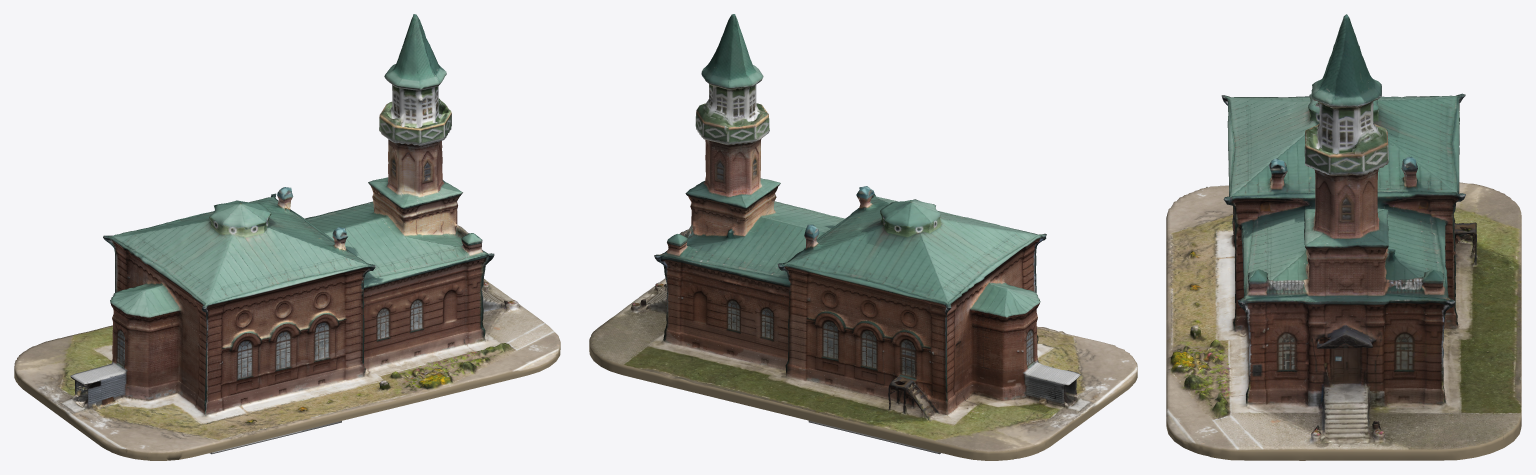
Rendered from mosque_low_2.glb.
3 renders of one model, left to right at view 1: azimuth 30°, elevation 25°; view 2: azimuth 150°, elevation 25°; view 3: azimuth 270°, elevation 25°, orthographic. The views are drawn at different scales.
Visible parts, largest first — view 1: 1, 3, 2; view 2: 1, 3, 2; view 3: 1, 3, 2.
Part boxes in pixels (x1,y1,x2,y2): 1: (103, 14, 494, 341); 3: (14, 279, 560, 460); 2: (70, 268, 488, 406); 1: (654, 14, 1046, 341); 3: (589, 278, 1137, 460); 2: (659, 269, 1080, 408); 1: (1221, 14, 1465, 316); 3: (1166, 182, 1521, 460); 2: (1232, 206, 1476, 417).
Bounding box in the file's own units: 34.66 × 25.97 × 19.35.
Materials: 5 (3 with a texture image).
